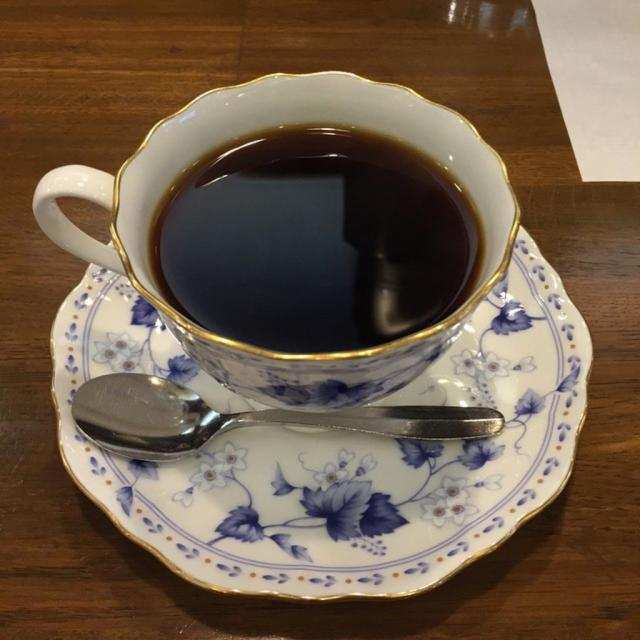Coffee: (147, 126, 487, 354)
Tea: (153, 127, 484, 351)
